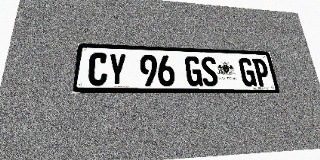6: (157, 55, 175, 86)
9: (140, 54, 158, 86)
C: (87, 52, 108, 86)
G: (184, 56, 203, 86), (238, 58, 257, 86)
P: (252, 58, 271, 87)
S: (200, 56, 219, 86)
Y: (107, 53, 126, 86)
